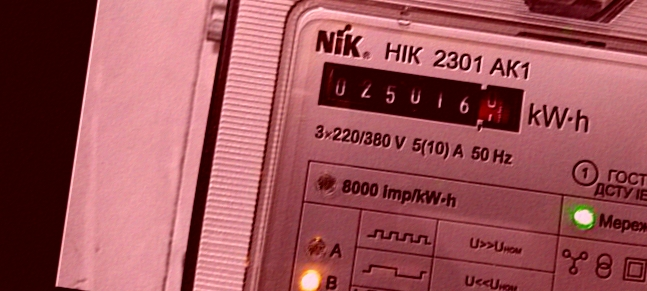0: (409, 82, 426, 107), (333, 75, 349, 99), (485, 88, 500, 110)
1: (433, 85, 448, 111), (485, 111, 495, 123)
2: (359, 76, 375, 100)
5: (384, 82, 398, 105)
6: (457, 91, 473, 118)
screen: (308, 50, 536, 143)
